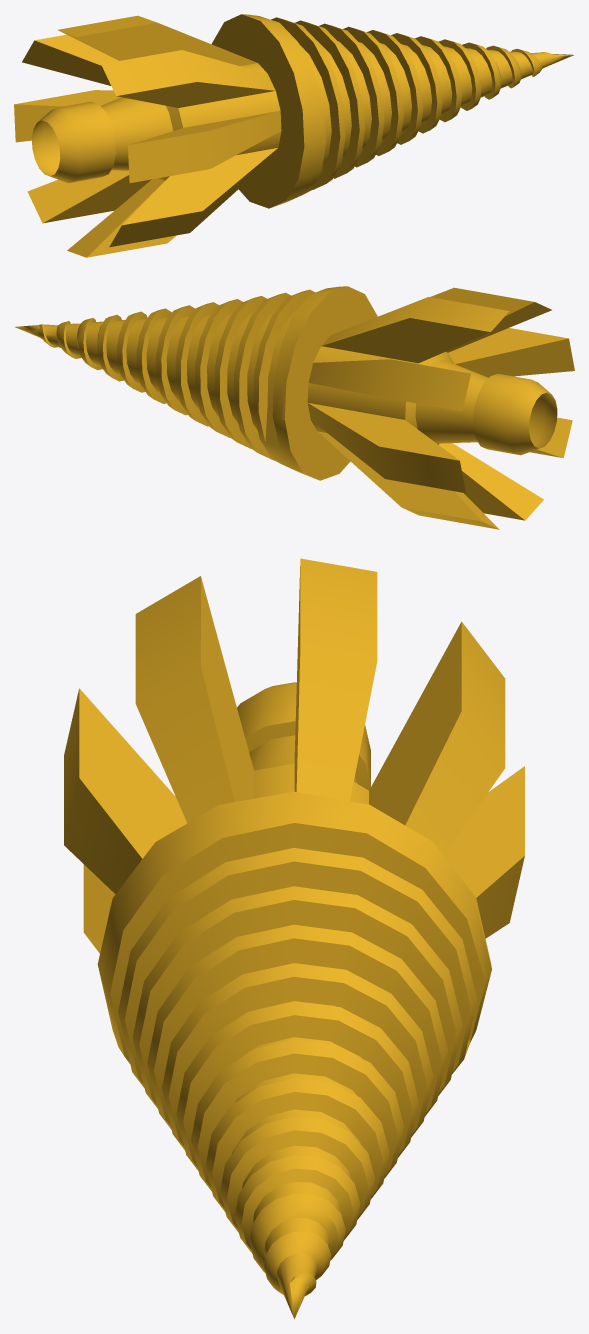
Rendered from Mega Drill.fbx.
3 renders of one model, top to bottom at view 1: azimuth 30°, elevation 25°; view 2: azimuth 150°, elevation 25°; view 3: azimuth 270°, elevation 25°, orthographic. The views are drawn at different scales.
Visible parts, largest first — view 1: MegaDrill.001; view 2: MegaDrill.001; view 3: MegaDrill.001.
Part boxes in pixels (x1,y1,x2,y2): MegaDrill.001: (14,14,573,257); MegaDrill.001: (15,286,574,529); MegaDrill.001: (64,558,524,1319).
Size of the model in its own units: 556 by 214 by 209.
